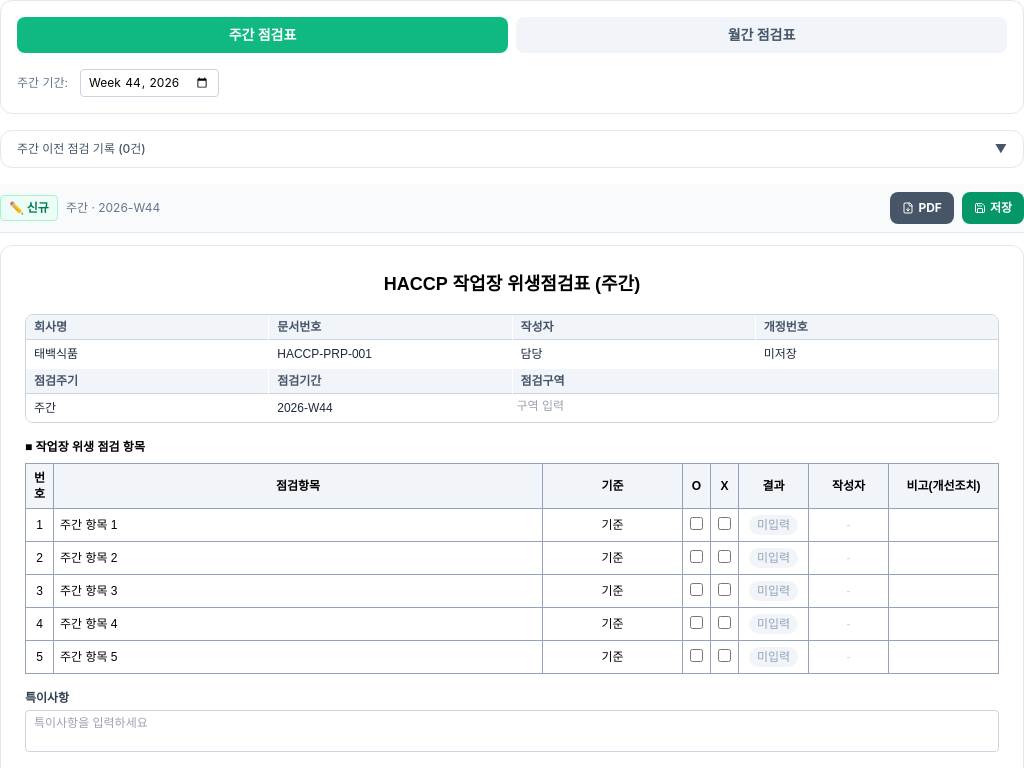
Test: 주간과 월간 양식 오류는 선택한 cycle에만 저장 gate를 적용한다
expect the button "저장" is enabled: met, box [962,192,1023,224]
Click the button "월간 점검표" at point(762, 35), box [516,17,1007,53]
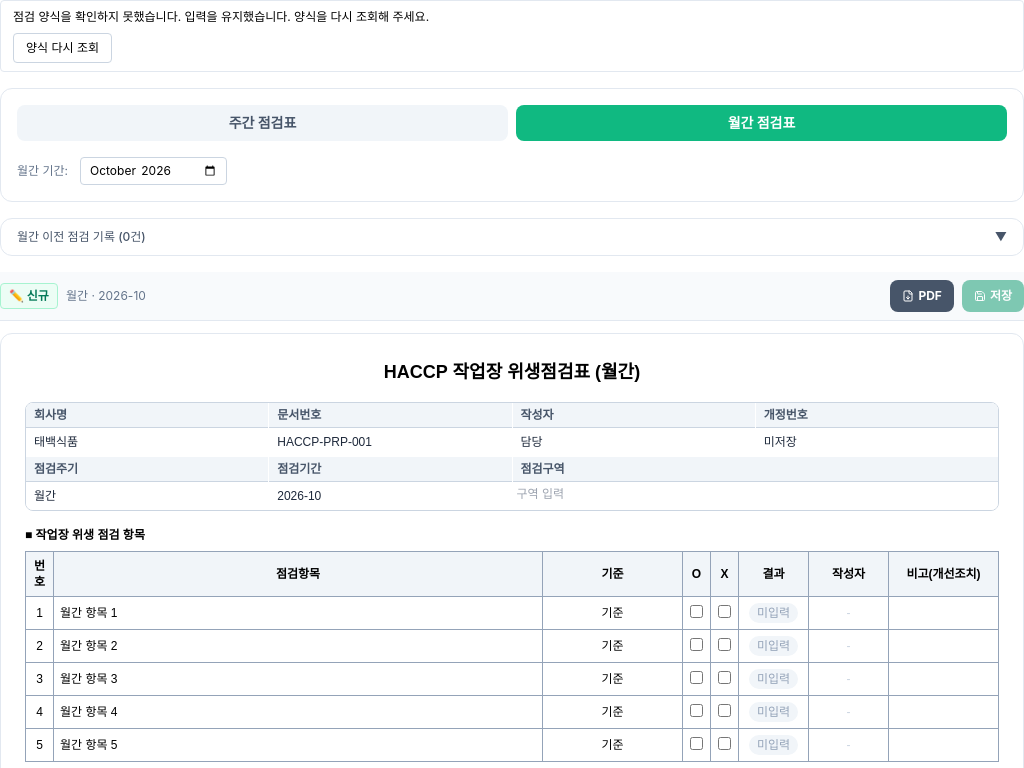
expect the button "저장" is disabled: met, box [962,280,1023,312]
expect the button "양식 다시 조회" is shown: met, box [13,33,112,63]
Click the button "주간 점검표" at point(262, 123), box [17,105,508,141]
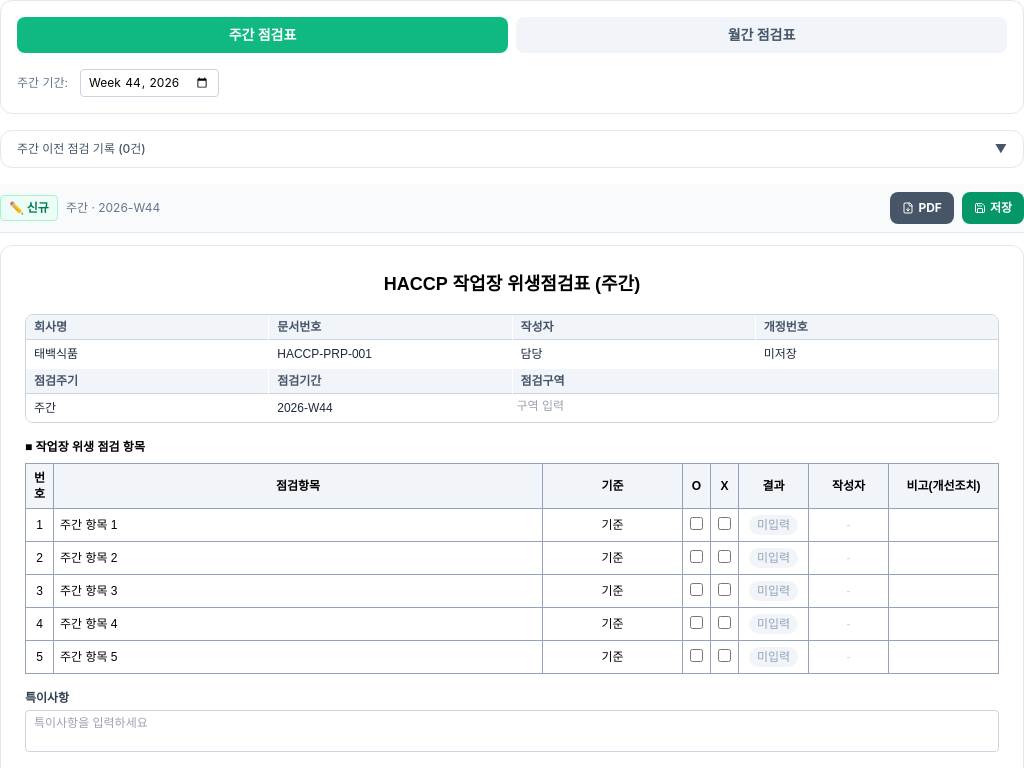
expect the button "저장" is enabled: met, box [962,192,1023,224]
